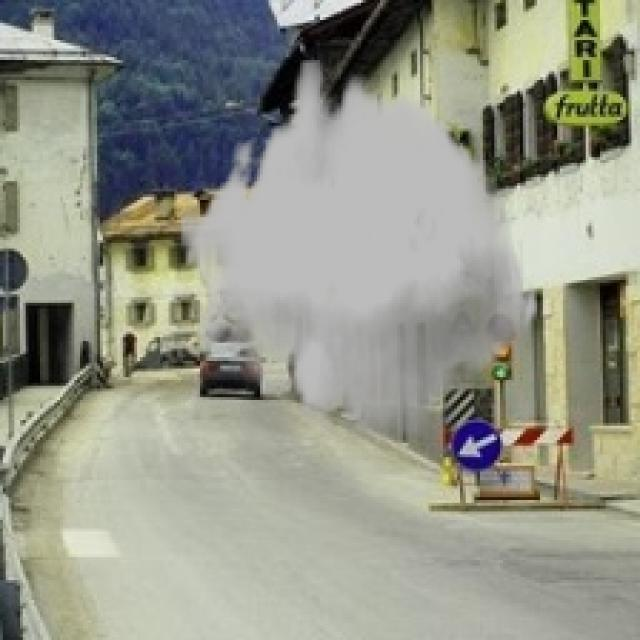Smoke: (177, 60, 540, 443)
